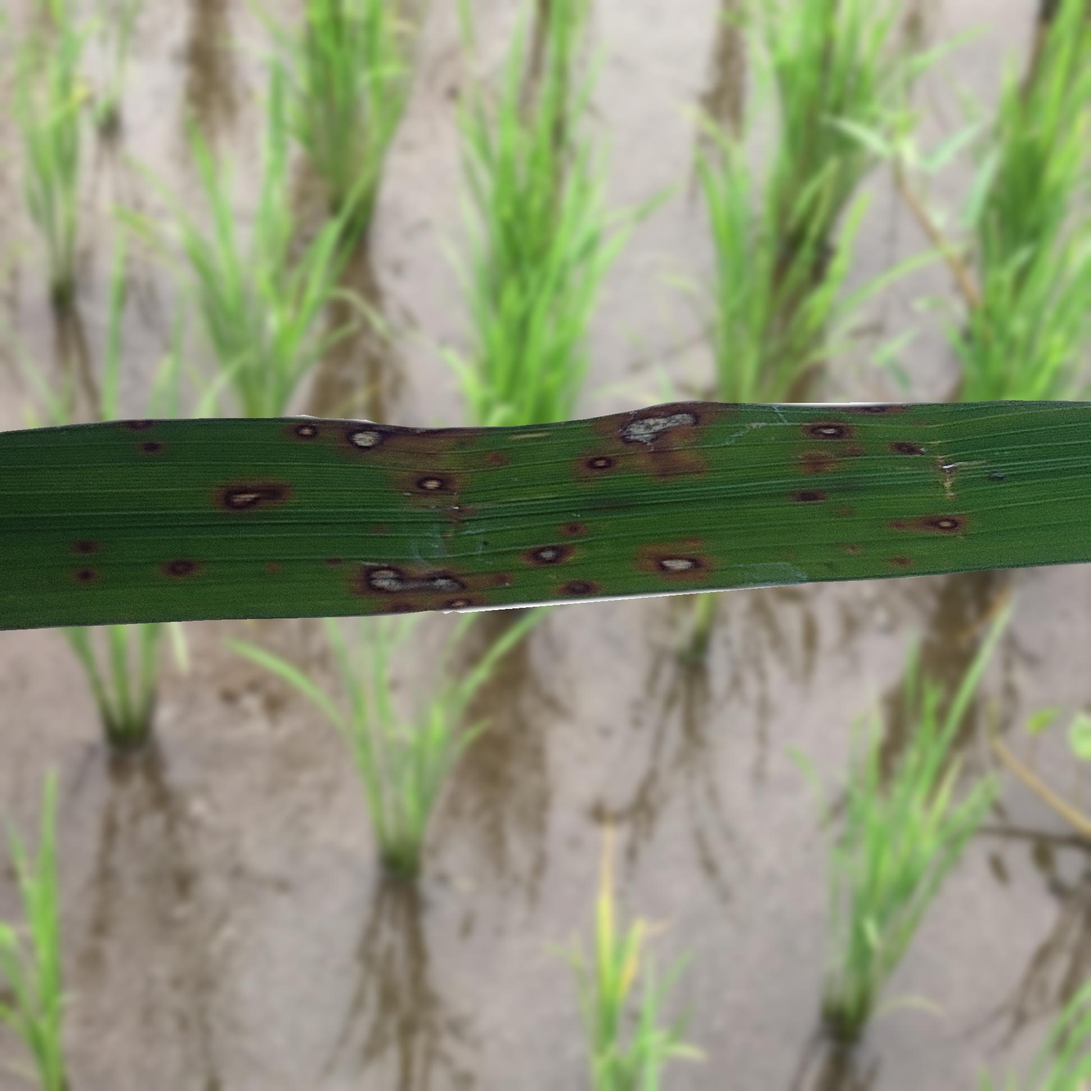LEAF BLAST: (618, 407, 700, 446), (364, 566, 465, 593), (806, 422, 852, 439), (558, 581, 599, 597), (415, 475, 452, 492), (350, 429, 382, 448), (227, 490, 260, 508), (163, 560, 195, 577), (583, 456, 616, 471), (661, 558, 695, 572), (852, 405, 899, 415), (445, 596, 476, 608), (535, 547, 558, 562), (125, 419, 153, 430), (295, 425, 317, 437), (934, 519, 957, 530)
